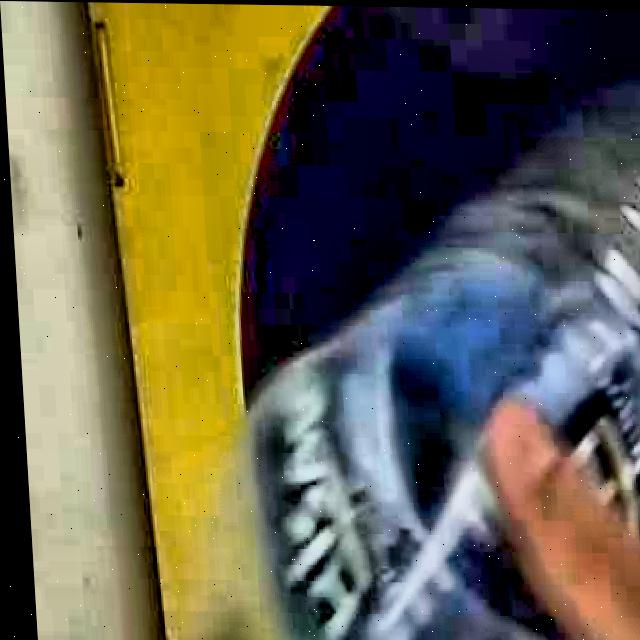plastic: (187, 98, 640, 640)
